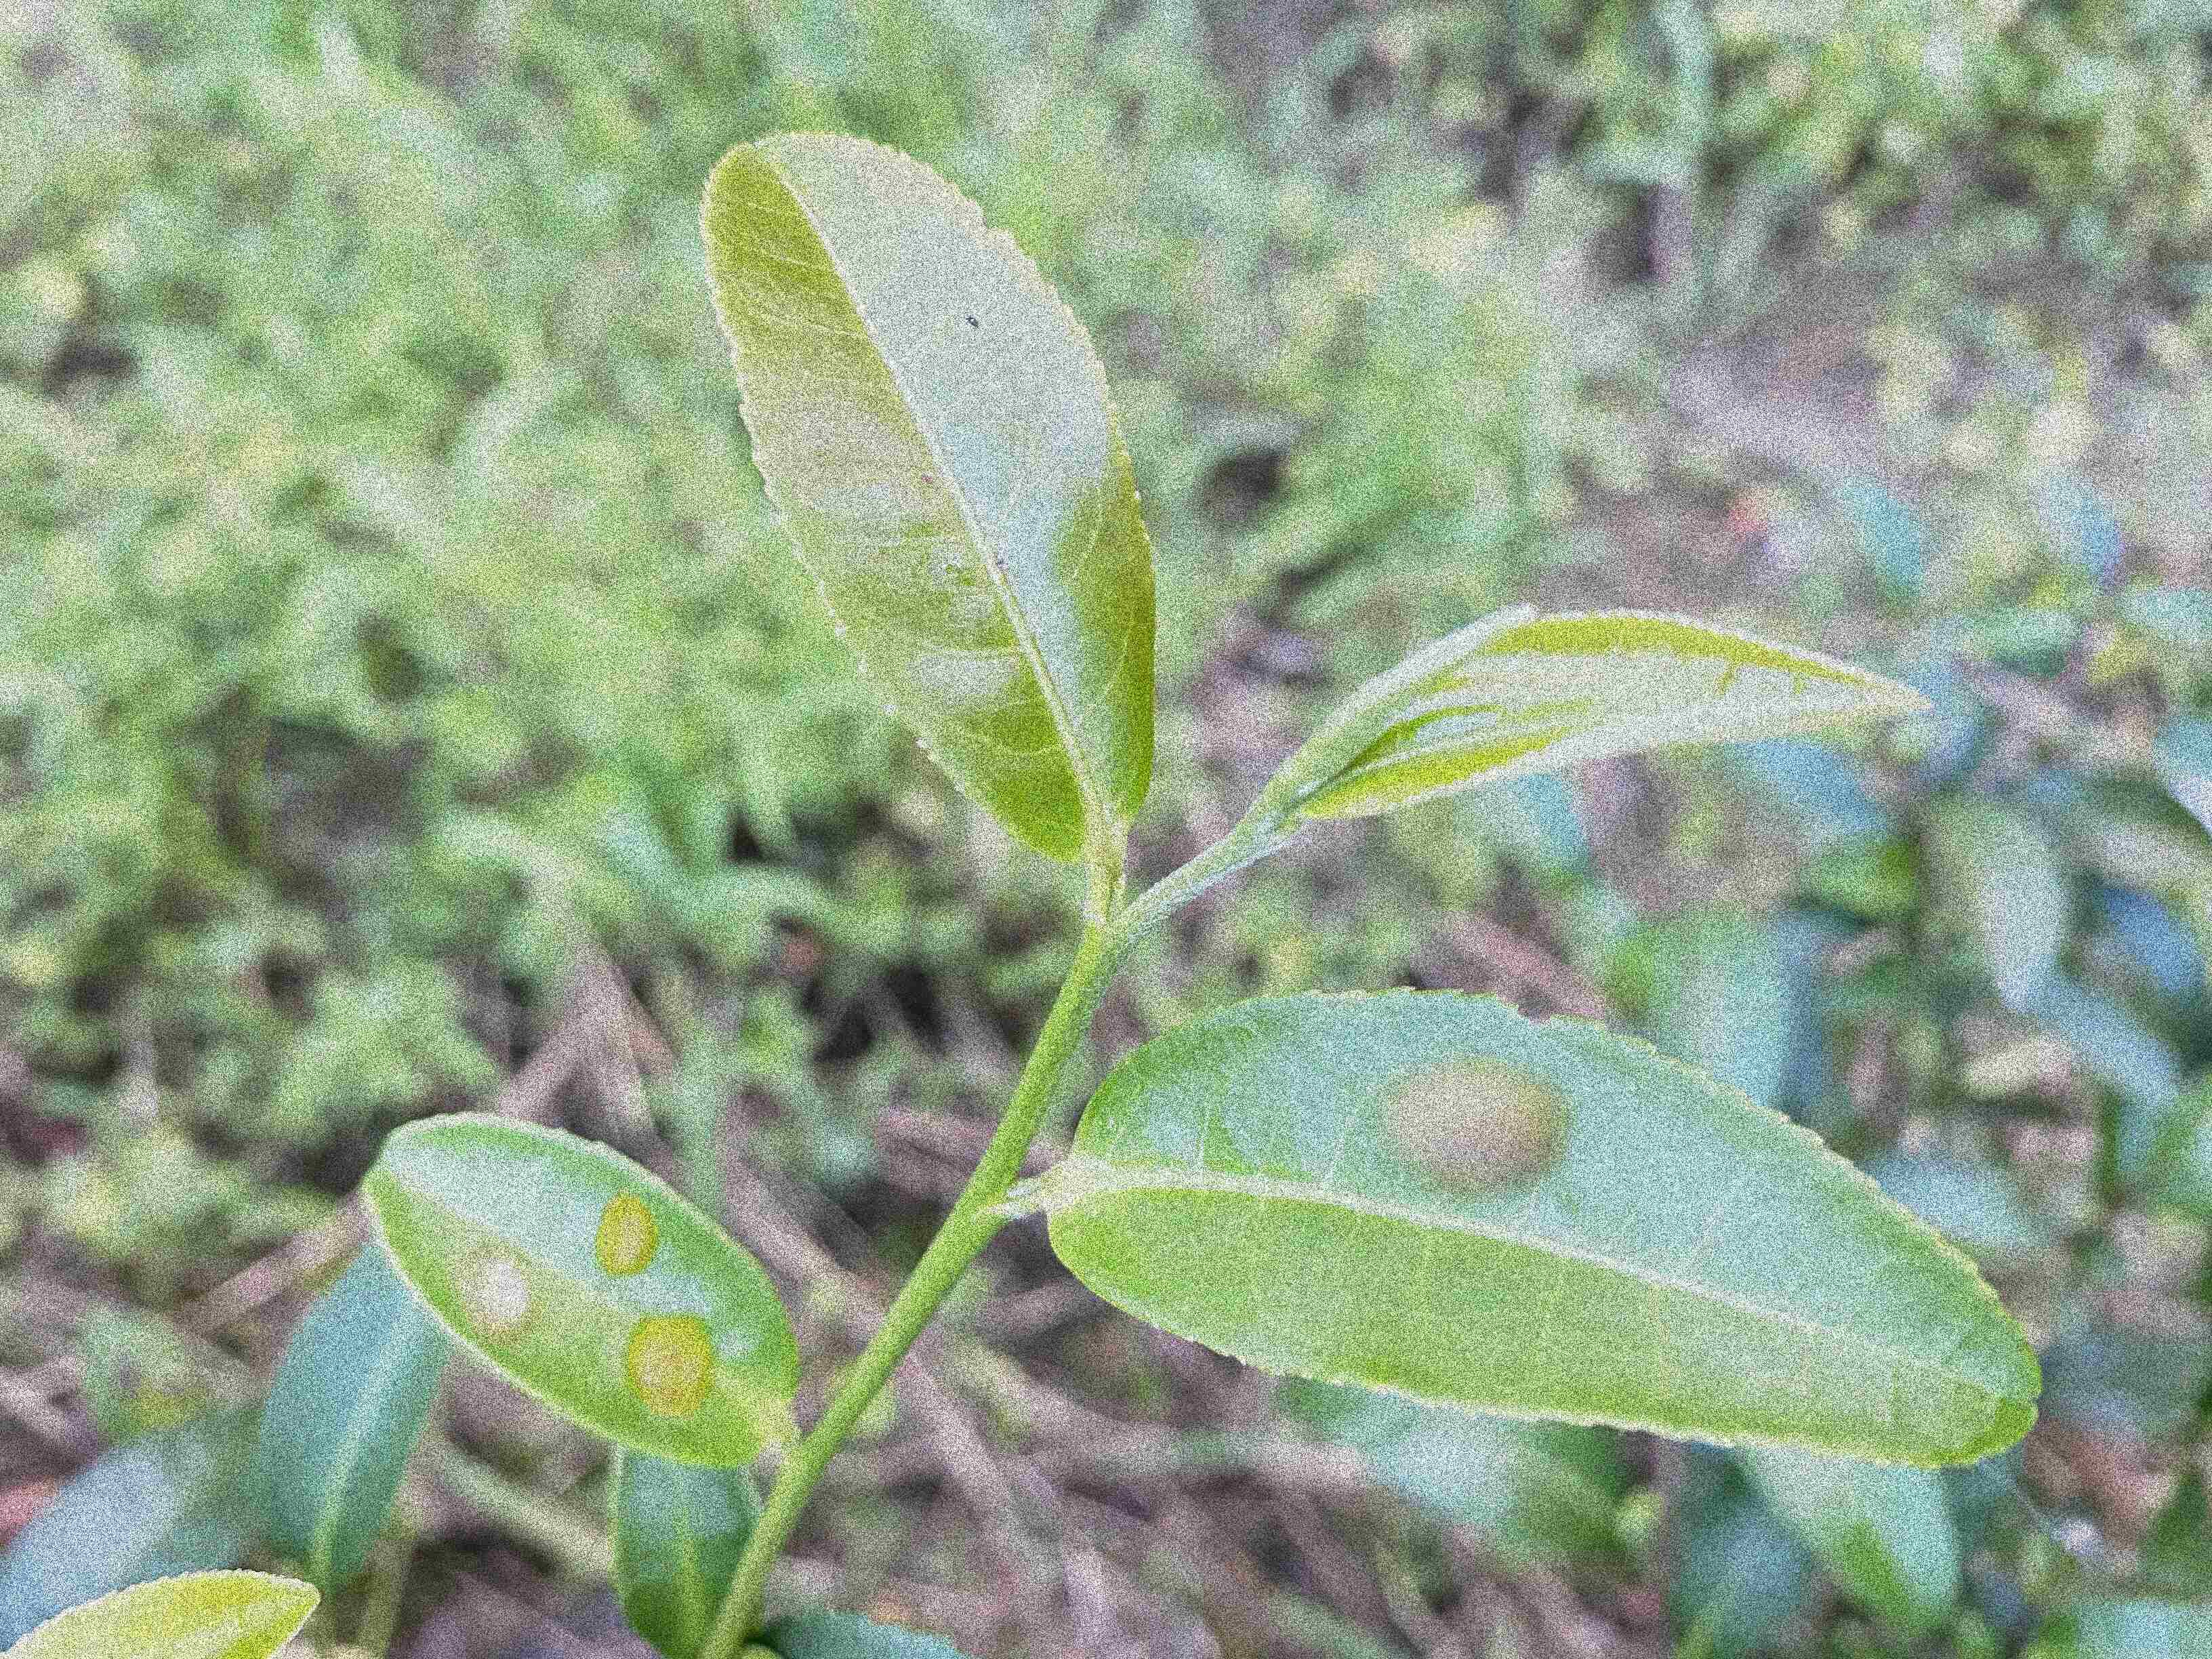chabing_high: (364, 1115, 798, 1459)
chabing_low: (1042, 985, 2045, 1469)
healthy: (695, 124, 1158, 864)
